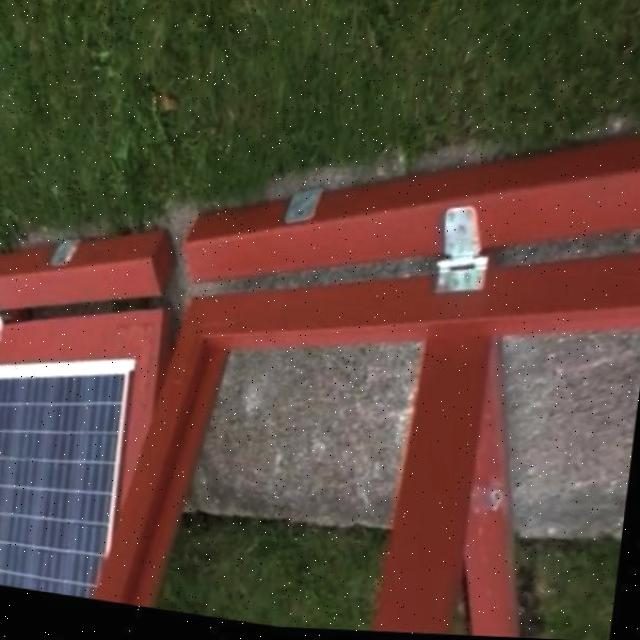Normal Solar Panel: (0, 349, 135, 606)
